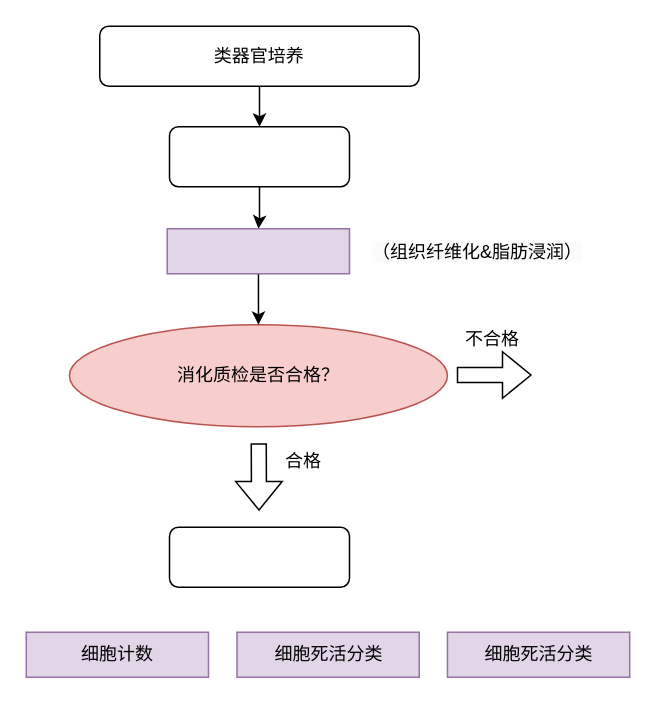
This 657x704 diagram has some shape labels left out. The centre of each missing label's shape, as x and y in pixels:
"消化质检" belongs at point (259, 156).
"种胶前质检" belongs at point (259, 556).
"细胞形态分类" belongs at point (258, 250).
